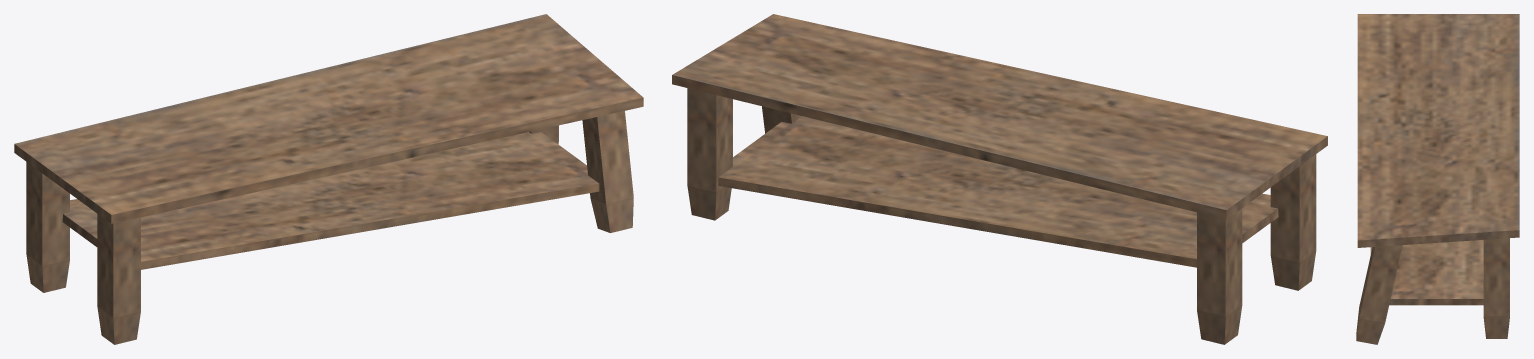
Rendered from butcher_table.fbx.
3 renders of one model, left to right at view 1: azimuth 30°, elevation 25°; view 2: azimuth 150°, elevation 25°; view 3: azimuth 270°, elevation 25°, orthographic. The views are drawn at different scales.
Visible parts, largest first — view 1: butcher_table; view 2: butcher_table; view 3: butcher_table.
Boxes of the visible parts, <box> form: butcher_table: <box>14,14,643,344</box>; butcher_table: <box>672,14,1327,344</box>; butcher_table: <box>1356,14,1519,344</box>.
Bounding box in the file's own units: 409 × 106 × 131.
1 material, 1 textured.
